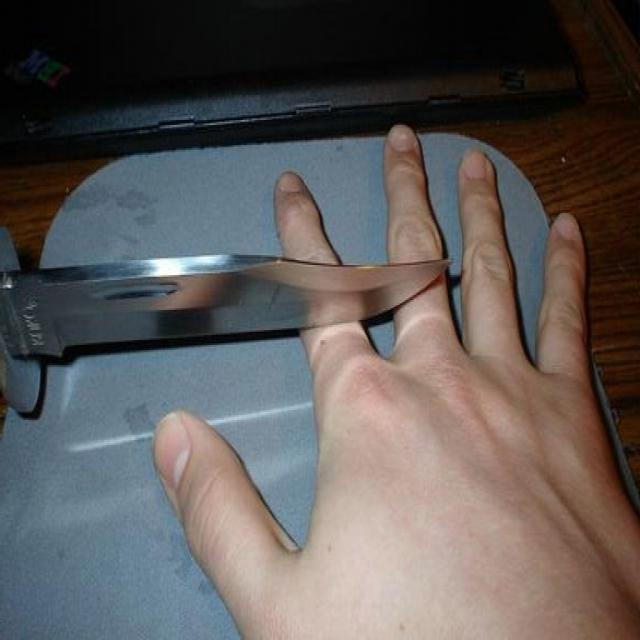Knife: (0, 255, 448, 362)
